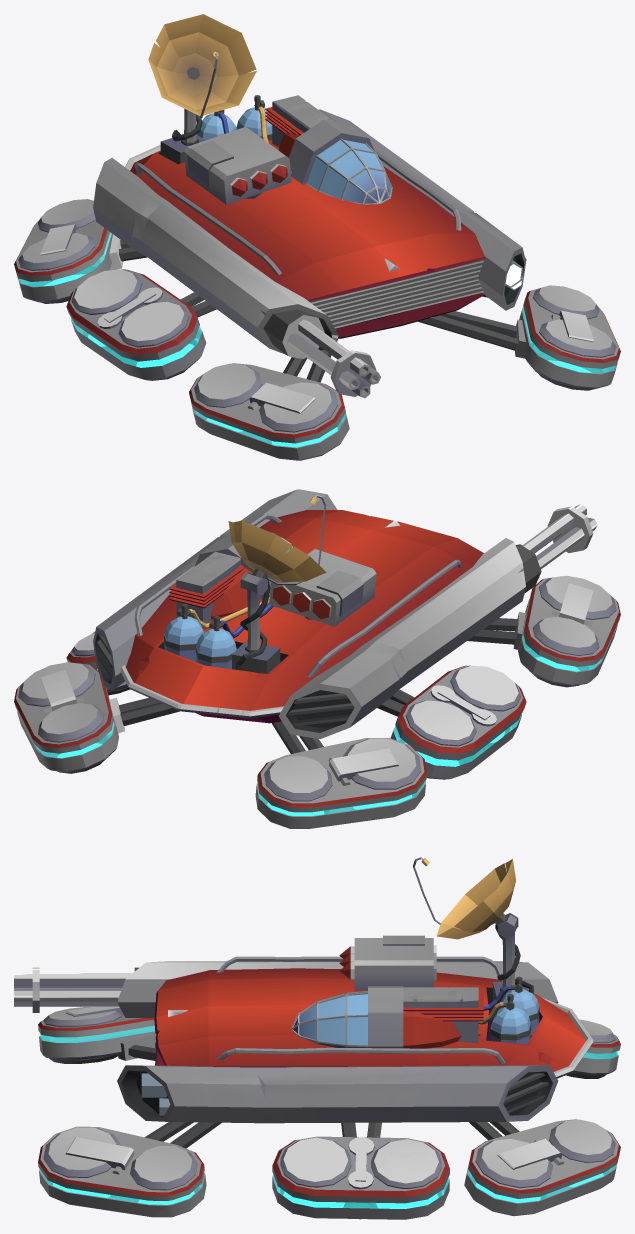
Rendered from vehicle_v2.gltf.
The picture shows the model from 3 angles, top to bottom: view 1: azimuth 30°, elevation 25°; view 2: azimuth 150°, elevation 25°; view 3: azimuth 270°, elevation 25°; orthographic projection.
Visible parts, largest first — view 1: center body, front pads, tubes.001, middle pads, dish, rear pads, grille, tubes, Cube.008, canopy, barrel 1, gun body (+11 smaller); view 2: center body, rear pads, tubes.001, middle pads, front pads, tubes, dish, Cube.008, canopy rear box, barrel 1, gun body, oxygen tank 1.001 (+17 smaller); view 3: tubes, center body, front pads, middle pads, rear pads, tubes.001, canopy, Cube.008, barrel 1, dish, canopy ring, canopy rear box (+10 smaller).
Boxes of the visible parts, bbox=[...] form: center body: bbox=[130, 140, 485, 338]; front pads: bbox=[189, 285, 620, 460]; tubes.001: bbox=[93, 158, 338, 359]; middle pads: bbox=[66, 257, 526, 380]; dish: bbox=[148, 14, 256, 115]; rear pads: bbox=[14, 199, 112, 303]; grille: bbox=[309, 259, 483, 328]; tubes: bbox=[318, 109, 525, 310]; Cube.008: bbox=[184, 127, 291, 204]; canopy: bbox=[278, 132, 391, 203]; barrel 1: bbox=[287, 319, 380, 398]; gun body: bbox=[263, 309, 376, 396]; center body: bbox=[126, 510, 483, 723]; rear pads: bbox=[14, 662, 426, 828]; tubes.001: bbox=[278, 538, 525, 738]; middle pads: bbox=[66, 631, 526, 779]; front pads: bbox=[518, 575, 620, 687]; tubes: bbox=[93, 489, 337, 690]; dish: bbox=[228, 520, 326, 582]; Cube.008: bbox=[269, 549, 376, 626]; canopy rear box: bbox=[176, 551, 240, 623]; barrel 1: bbox=[522, 504, 597, 569]; gun body: bbox=[515, 506, 593, 593]; oxygen tank 1.001: bbox=[195, 616, 236, 668]; tubes: bbox=[117, 1065, 558, 1123]; center body: bbox=[154, 968, 585, 1071]; front pads: bbox=[38, 1007, 206, 1217]; middle pads: bbox=[272, 1136, 449, 1219]; rear pads: bbox=[464, 1019, 620, 1215]; tubes.001: bbox=[118, 961, 558, 1017]; canopy: bbox=[293, 992, 461, 1048]; Cube.008: bbox=[354, 938, 433, 990]; barrel 1: bbox=[14, 973, 132, 1006]; dish: bbox=[436, 859, 515, 939]; canopy ring: bbox=[368, 986, 403, 1053]; canopy rear box: bbox=[403, 987, 478, 1043].
Bounding box in the file's own units: 3.29 × 1.98 × 4.34.
6 materials, 3 textured.
